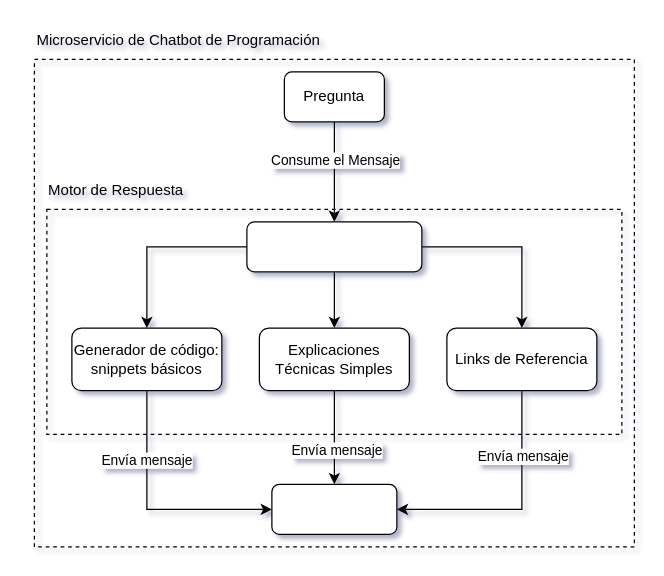
The diagram is 664 pixels wide and 576 high, and some of its shapes have lost their labels. Here are the shapes that lost their labels. From the top down, the centre of each, then its label:
At (x=334, y=246): "Inteligencia Artificial".
At (x=334, y=508): "Respuesta".
